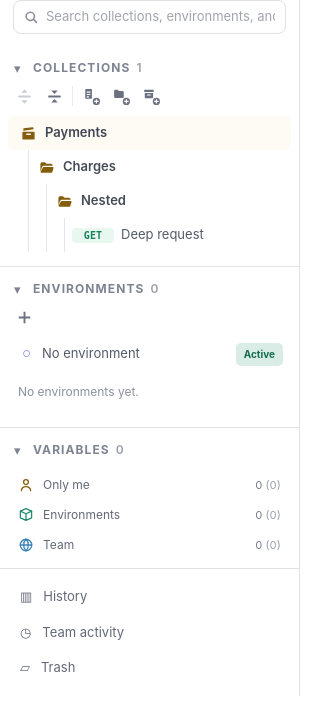
Test: WorkspaceTree expand/collapse all › disables Expand all when nothing is collapsed and Collapse all when everything is
Check: the button named "Expand all" is disabled, box 10,82 -> 38,110
Click the button named "Collapse all" at (54, 96), box 40,82 -> 68,110
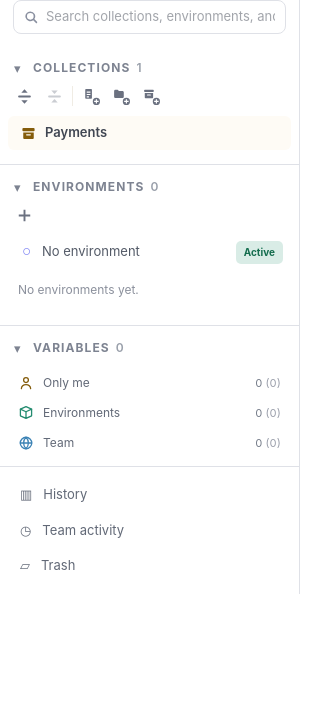
Check: the button named "Expand all" is enabled, box 10,82 -> 38,110
Check: the button named "Collapse all" is disabled, box 40,82 -> 68,110
